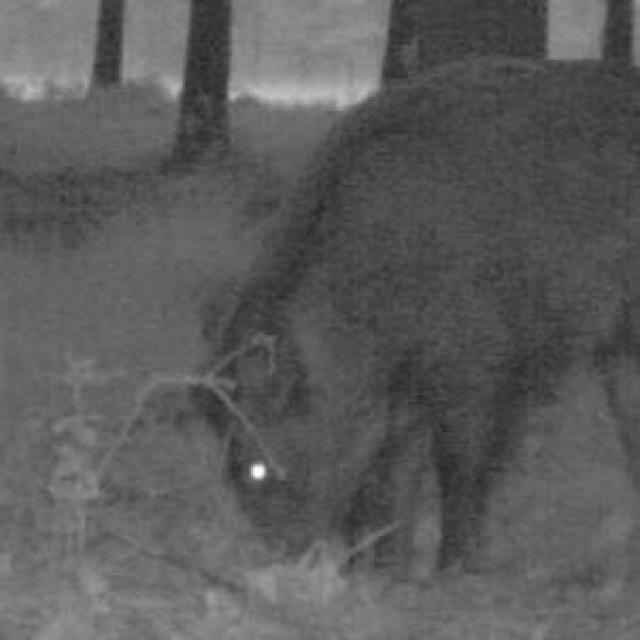pig: (165, 80, 640, 600)
